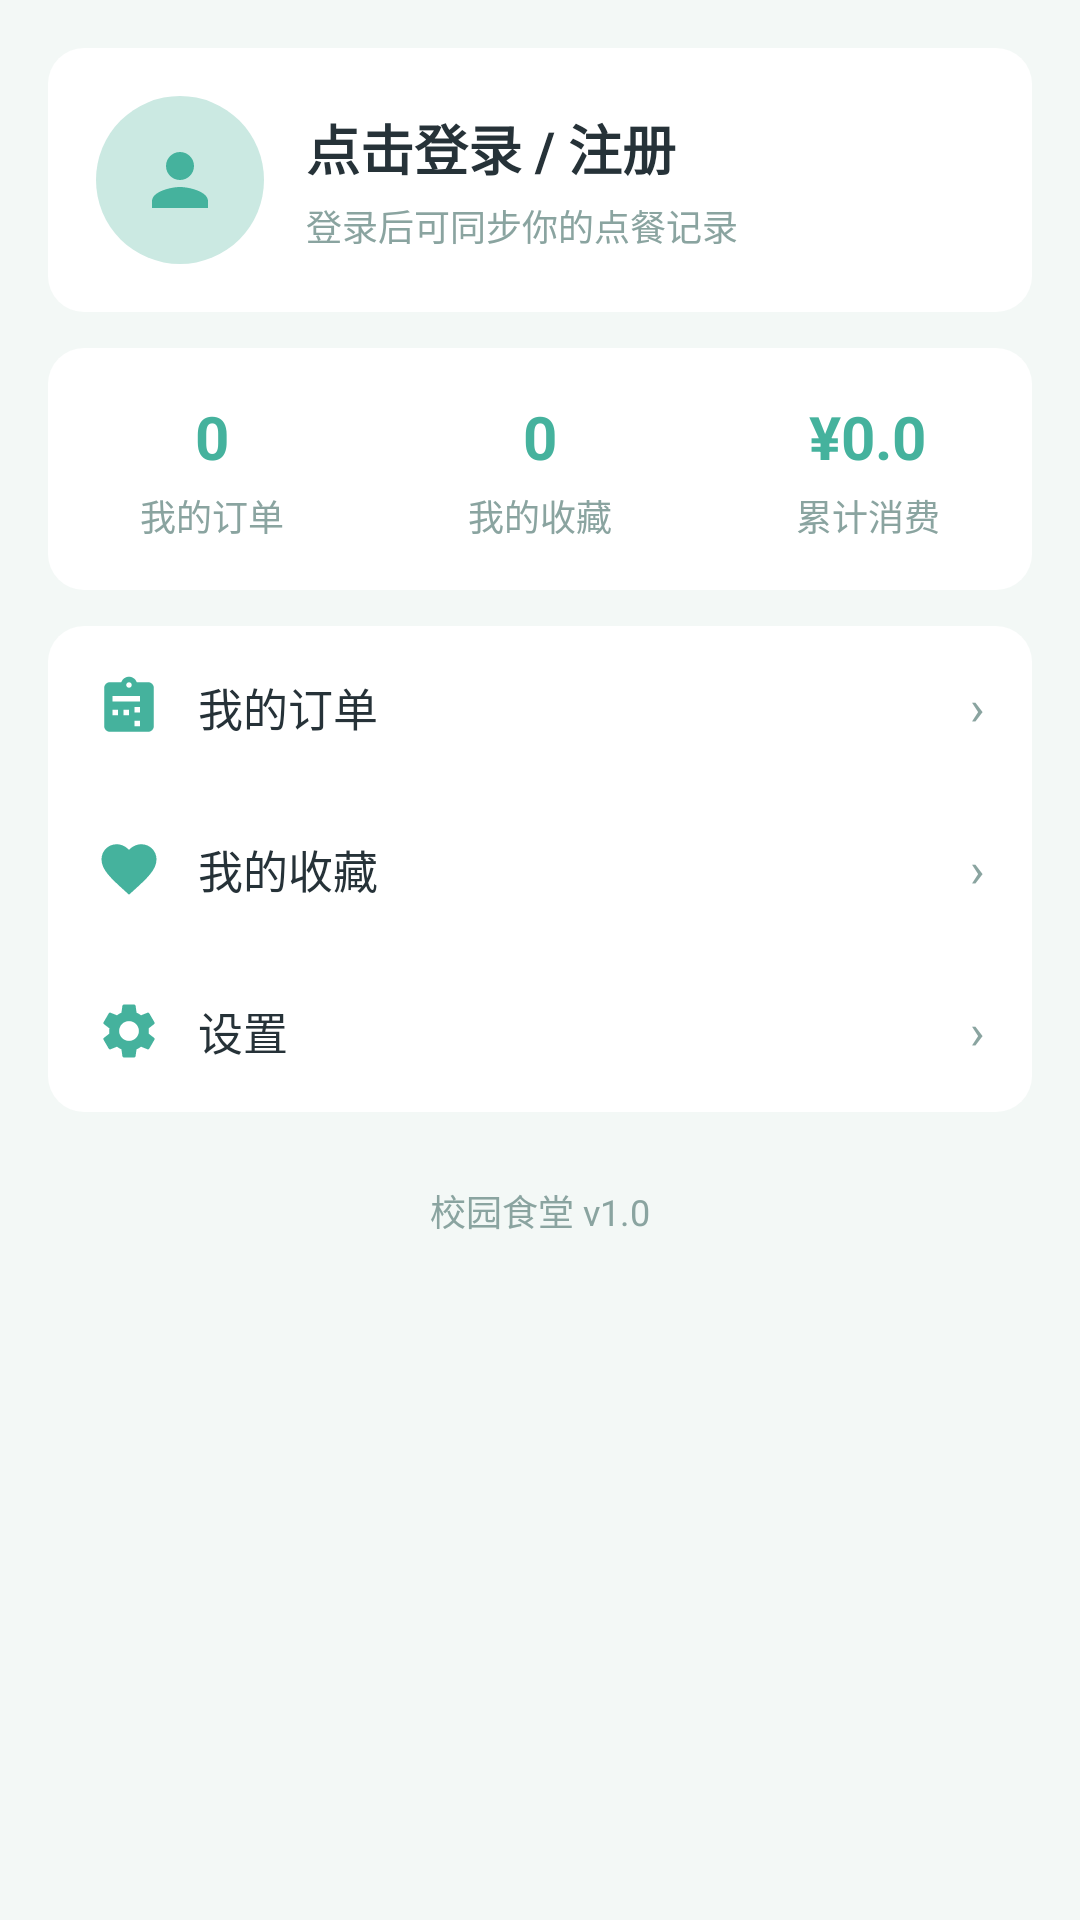

Icon bounding boxes for this 1080x1920 phone screenshot, format (x1, y1, x2, y2):
头像: (96, 96, 264, 264)
